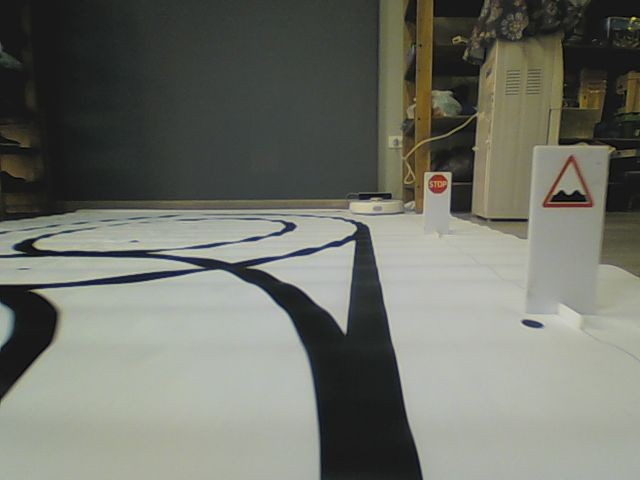Nerov: (542, 154, 596, 208)
Stop: (427, 173, 448, 194)
